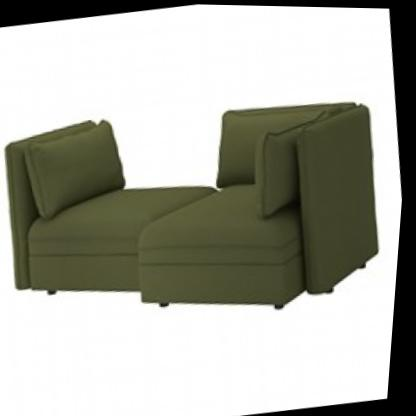Sofa: (0, 52, 405, 362)
